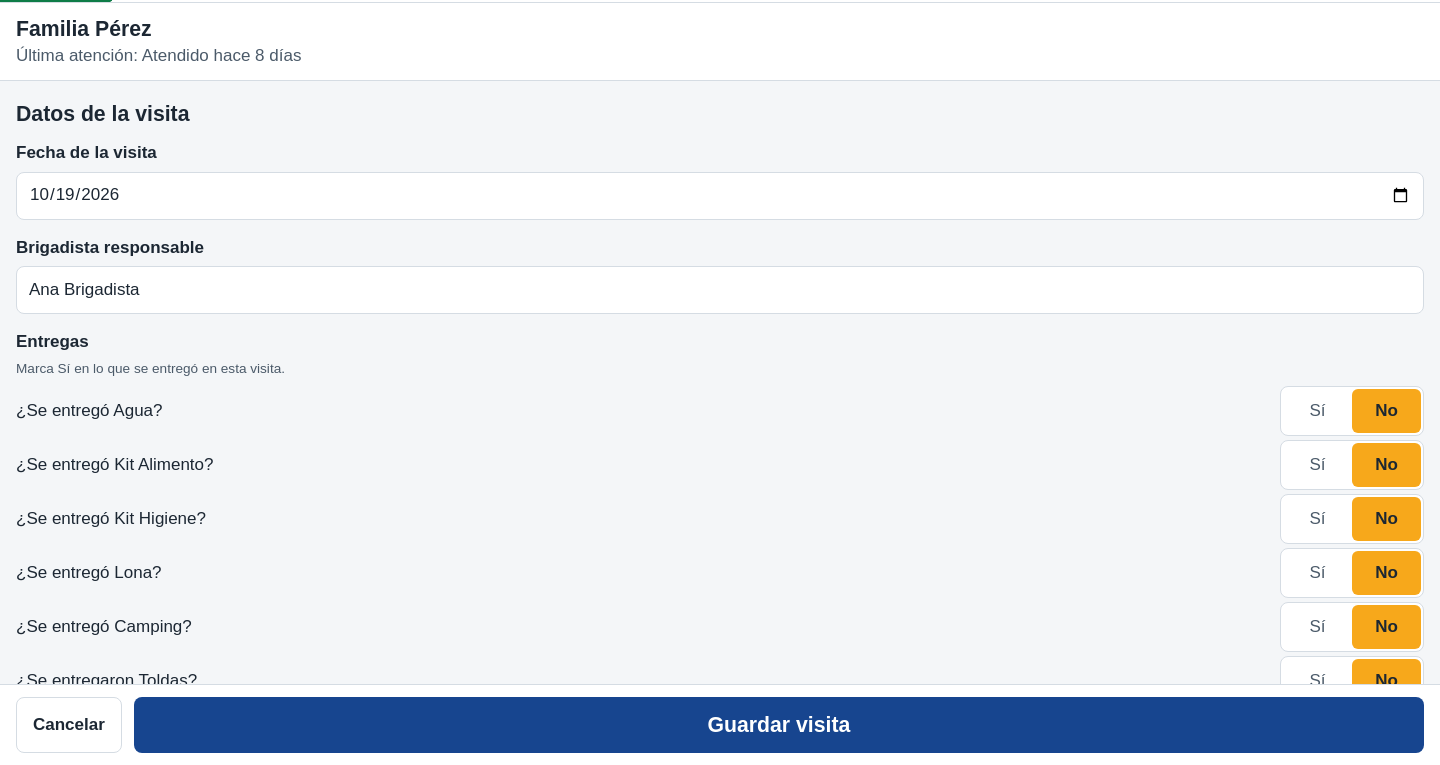
Test: VisitaForm: validación › una visita vacía no se guarda: mensaje sobre las entregas y foco en él
Click the button "Guardar visita" at [779, 725], box [134,697,1424,753]
(page scrolled)
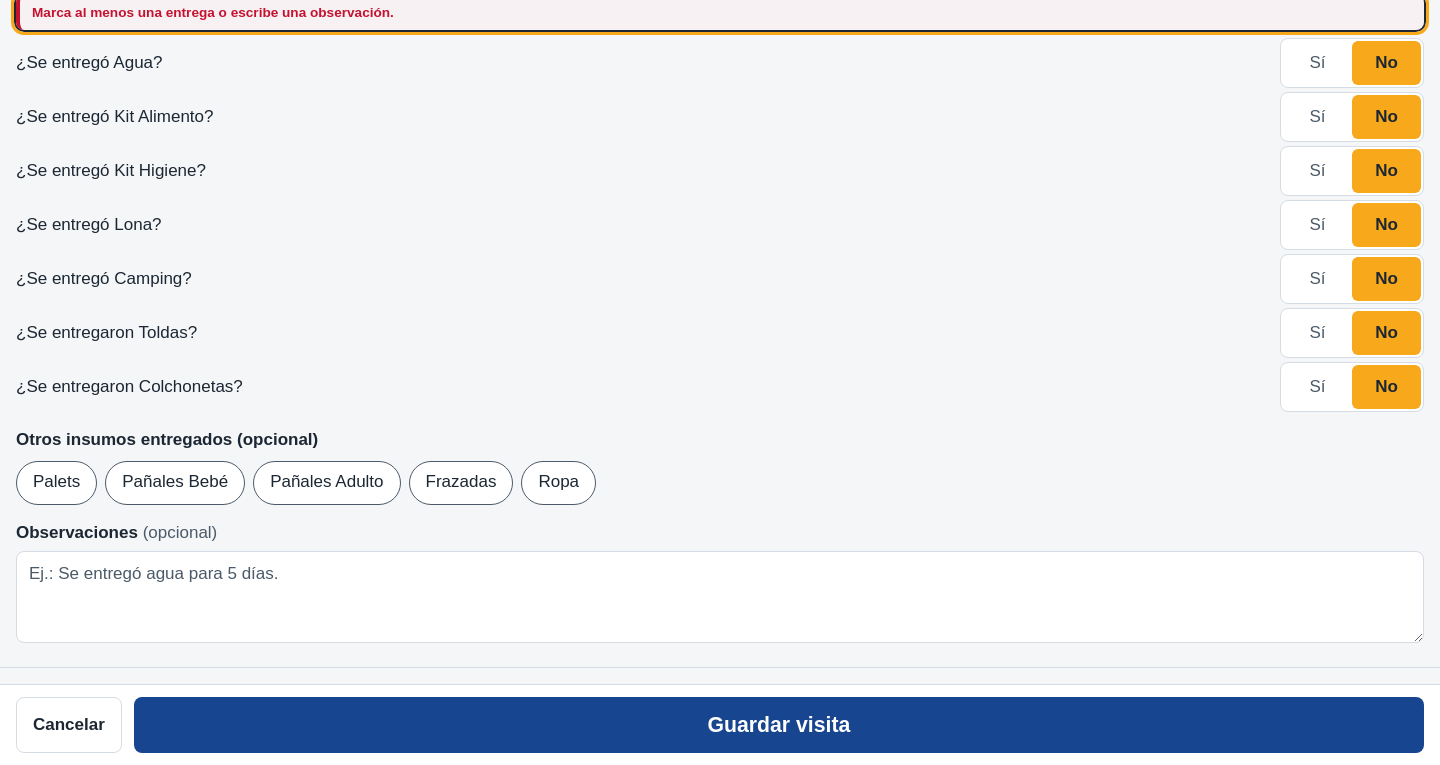
expect the message reads "Marca al menos una entrega o escribe una observación.": met, box [32,5,394,20]
Type "La familia no estaba" into the text box labelled "Observaciones (opcional)" at [720, 597], box [16,551,1424,643]
(page scrolled)
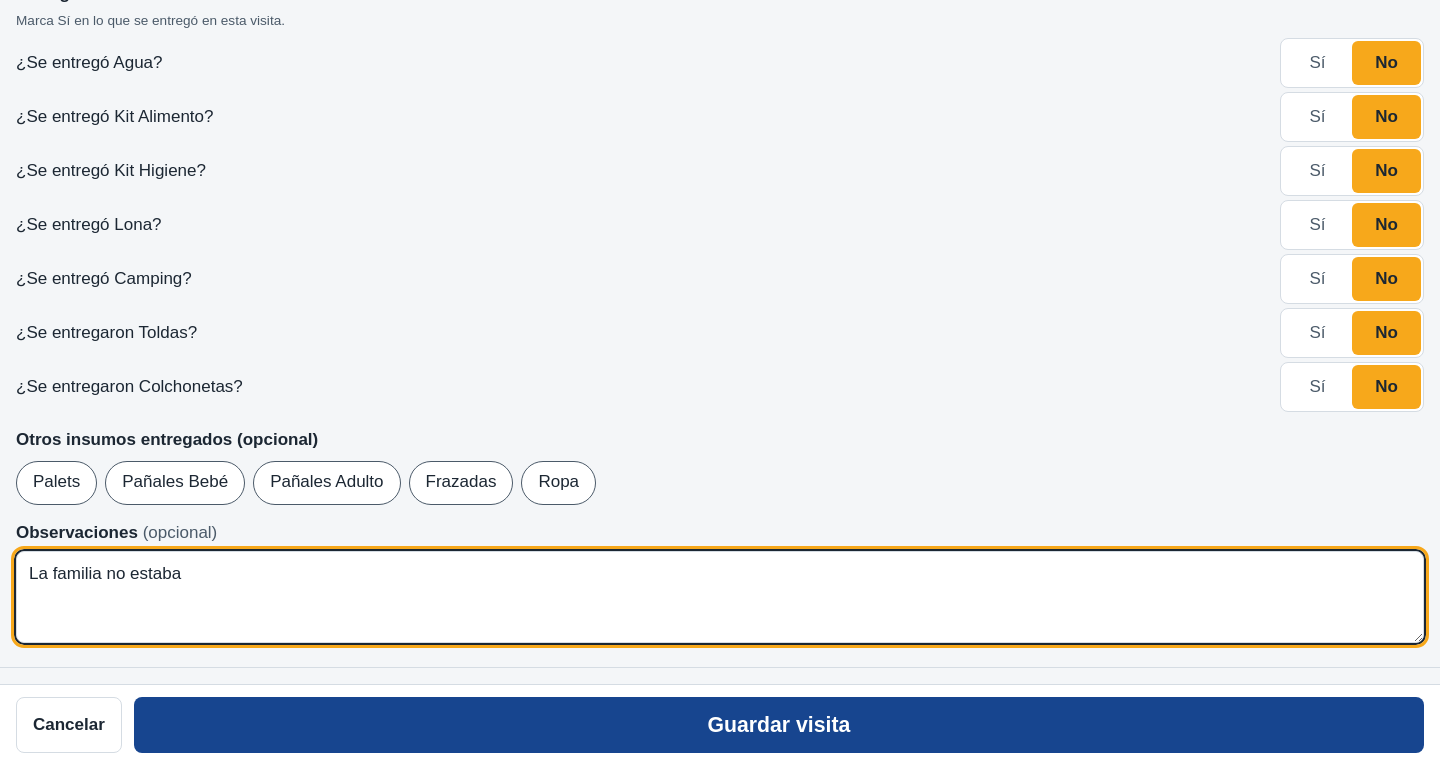
Click the button "Guardar visita" at [779, 725], box [134,697,1424,753]
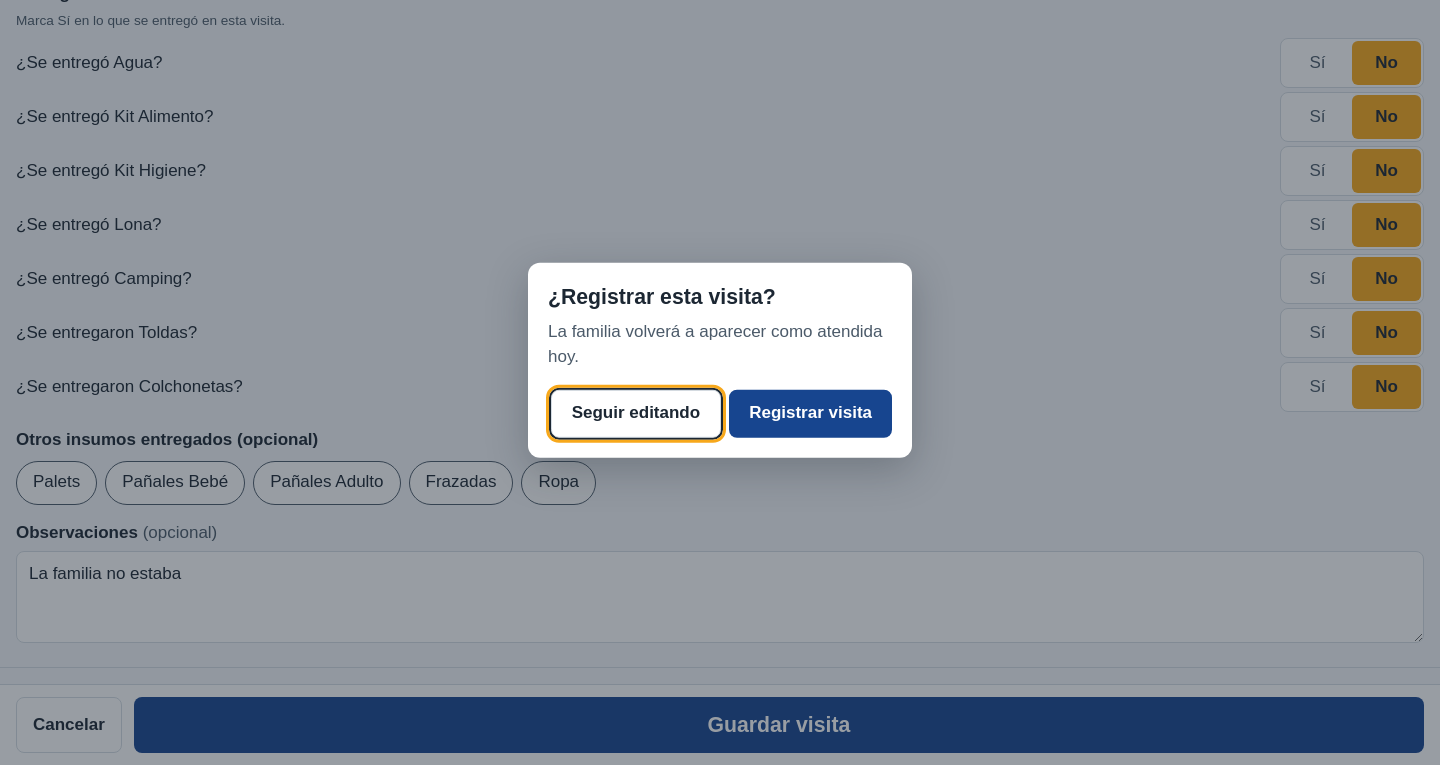
expect the dialog is shown: met, box [528,263,912,457]
